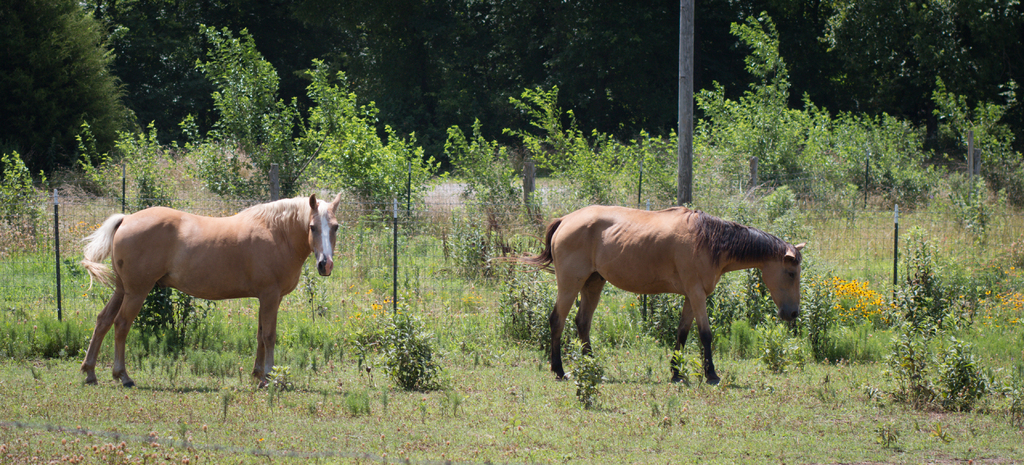horse: (490, 199, 806, 386), (82, 190, 344, 390)
